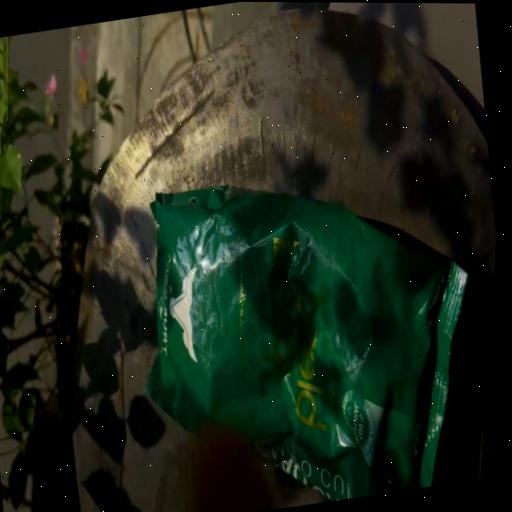cafe_xay: (149, 186, 467, 501)
